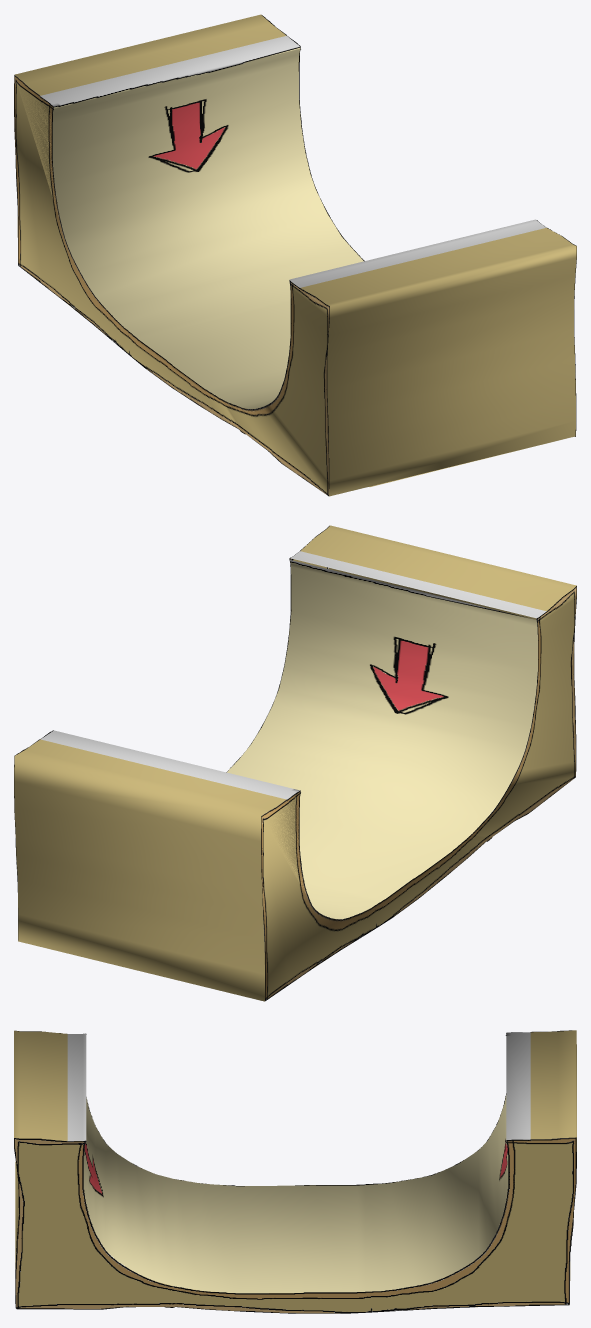
Rendered from SkateRamp.fbx.
The picture shows the model from 3 angles, top to bottom: view 1: azimuth 30°, elevation 25°; view 2: azimuth 150°, elevation 25°; view 3: azimuth 270°, elevation 25°; orthographic projection. The views are drawn at different scales.
Parts seen in each view (by area): view 1: Cube; view 2: Cube; view 3: Cube.
Boxes of the visible parts, <box> form: Cube: <box>14,14,576,496</box>; Cube: <box>14,525,576,1001</box>; Cube: <box>14,1030,576,1313</box>.
Bounding box in the file's own units: 532 × 407 × 1179.
